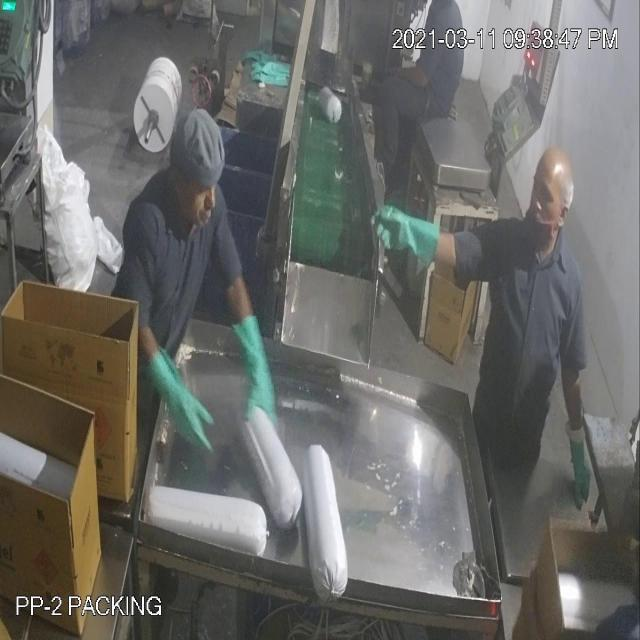Gloves: (39, 89, 580, 466)
